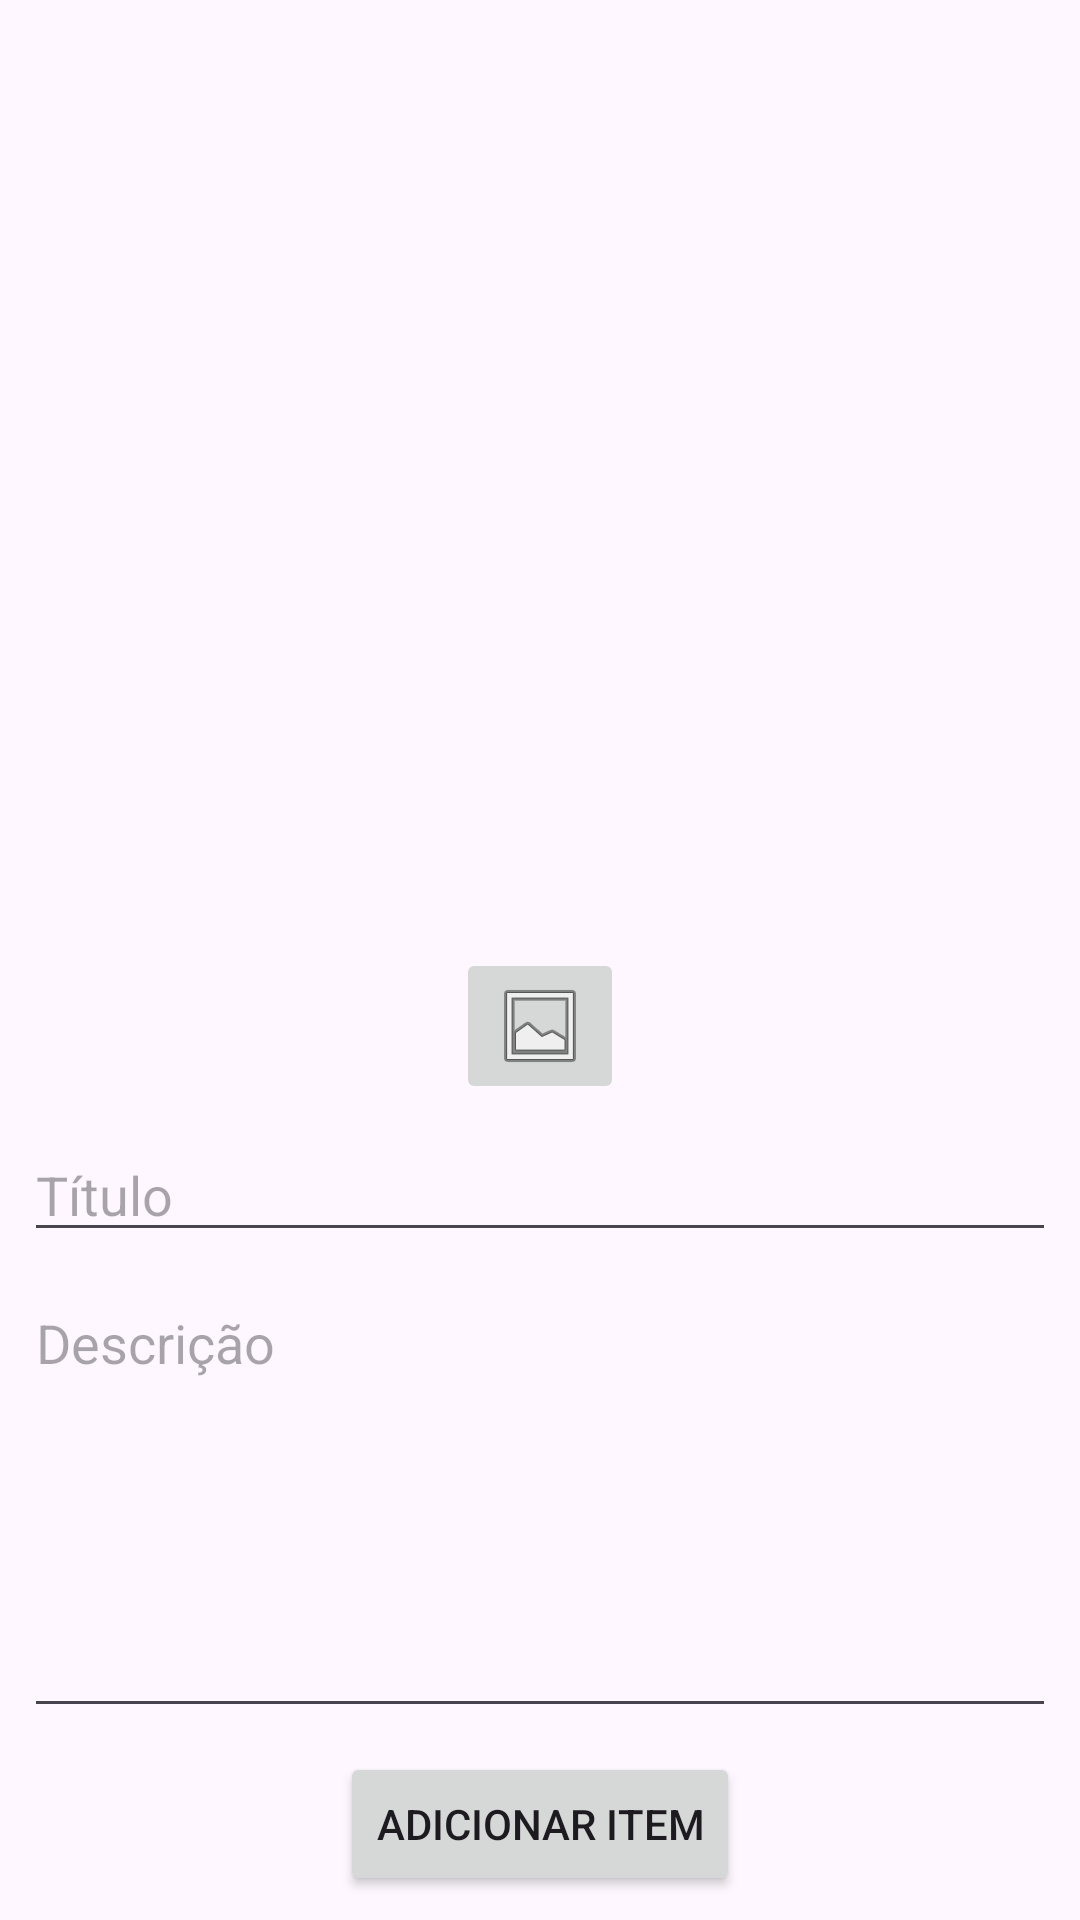

Named icons in this screenshot (1080 x 1920) and their centers, (x,y):
gallery: (540,1026)
